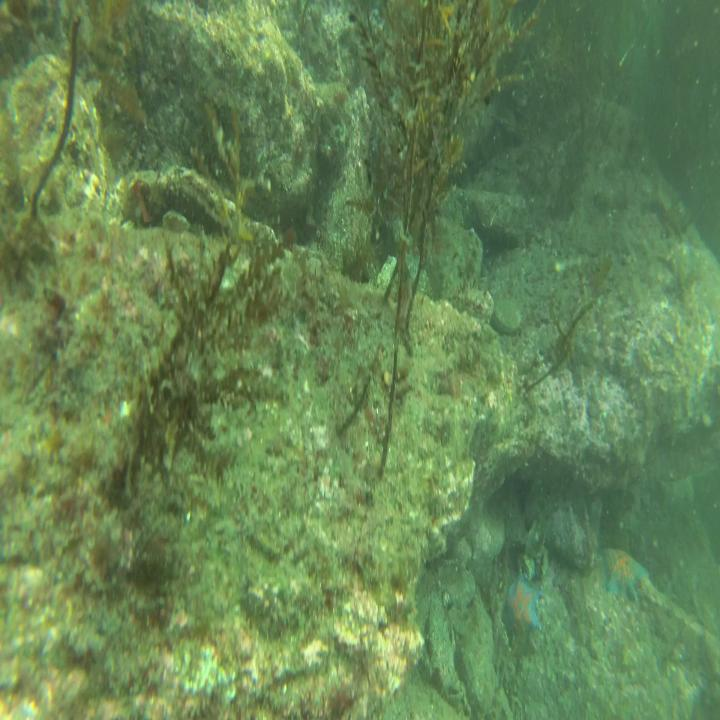starfish: (599, 544, 651, 597), (501, 576, 543, 641)
